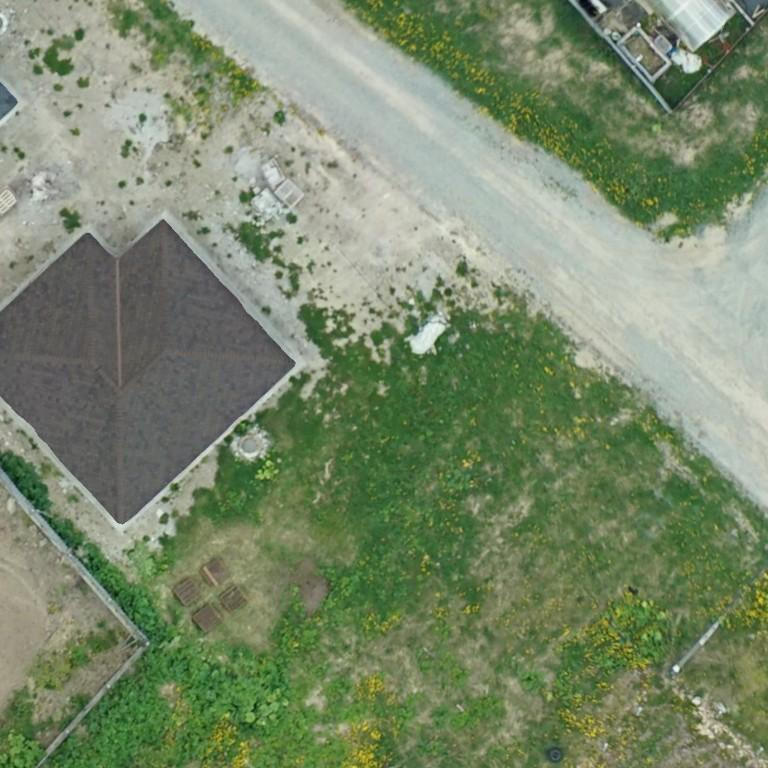hogweed: (45, 644, 238, 767), (85, 544, 173, 643), (0, 453, 49, 508), (50, 519, 82, 545)
